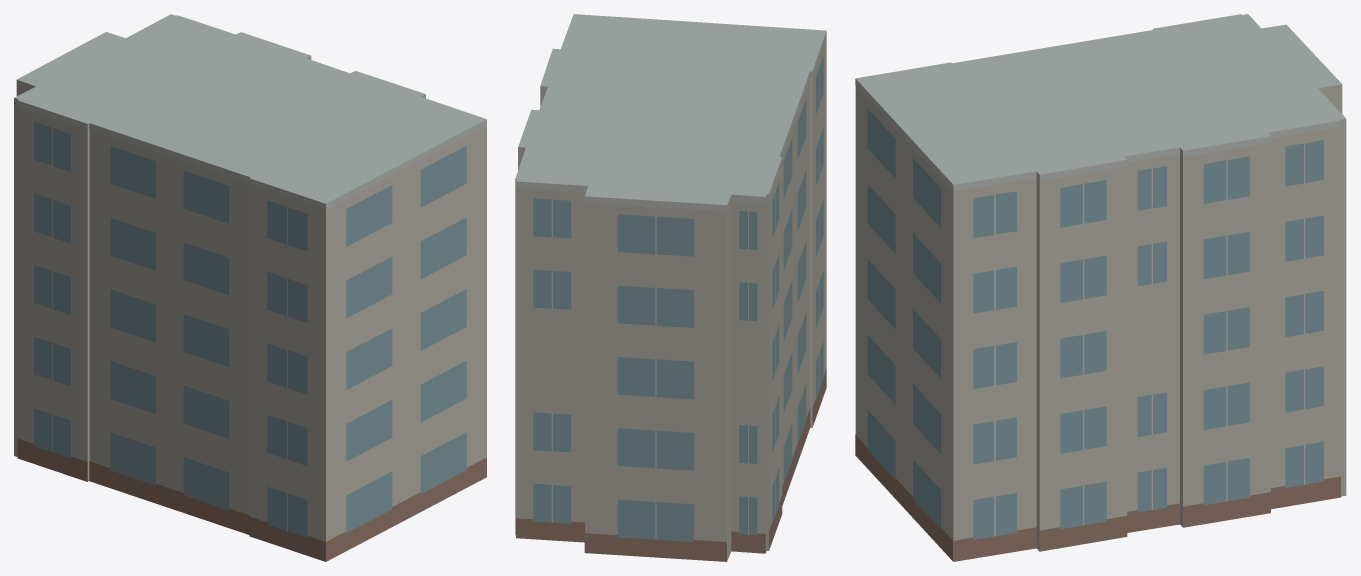
The model's file is survey-upis-32881618.glb.
3 renders of one model, left to right at view 1: azimuth 30°, elevation 25°; view 2: azimuth 150°, elevation 25°; view 3: azimuth 270°, elevation 25°, orthographic. The views are drawn at different scales.
Visible parts, largest first — view 1: survey-upis-32881618.tmp; view 2: survey-upis-32881618.tmp; view 3: survey-upis-32881618.tmp.
Boxes of the visible parts, box(x1,y1,x2,y2) form: survey-upis-32881618.tmp: box(14, 14, 486, 561); survey-upis-32881618.tmp: box(515, 14, 826, 561); survey-upis-32881618.tmp: box(855, 14, 1346, 561).
Size of the model in its own units: 13.91 by 14.3 by 16.89.
